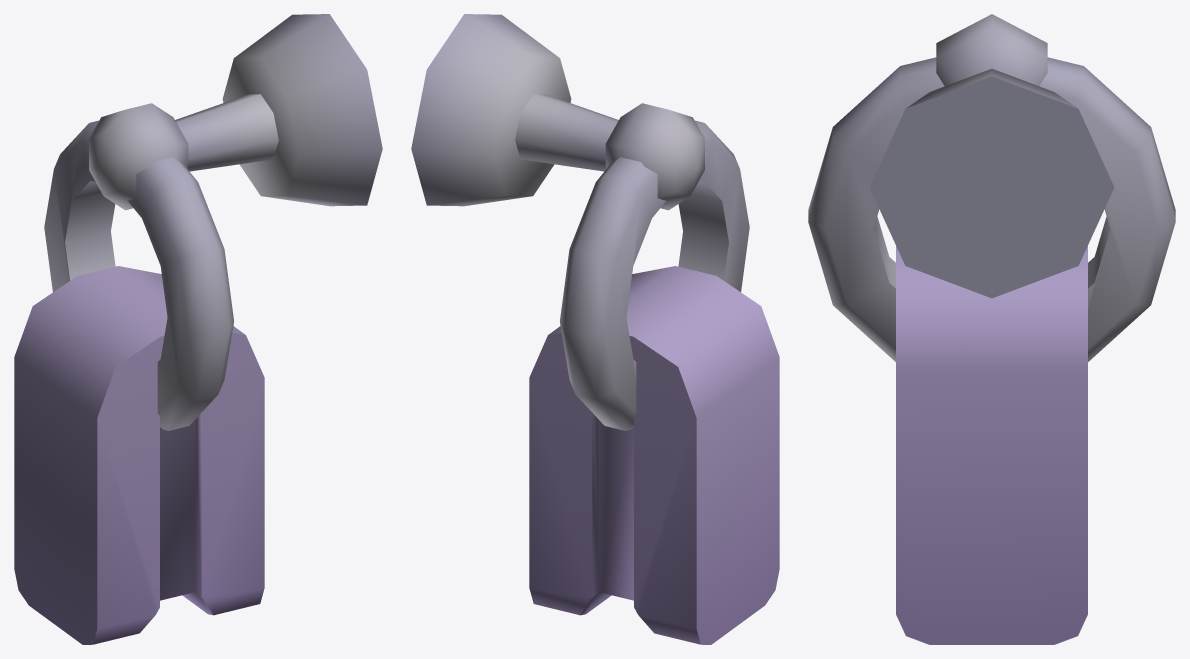
File: towel-rack-round (%wall) (%secret).glb
3 renders of one model, left to right at view 1: azimuth 30°, elevation 25°; view 2: azimuth 150°, elevation 25°; view 3: azimuth 270°, elevation 25°, orthographic. The views are drawn at different scales.
Visible parts, largest first — view 1: towel-rack-round (%wall) (%secret); view 2: towel-rack-round (%wall) (%secret); view 3: towel-rack-round (%wall) (%secret).
Boxes of the visible parts, left/top/right/bottom form: towel-rack-round (%wall) (%secret): left=14, top=14, right=382, bottom=644; towel-rack-round (%wall) (%secret): left=411, top=14, right=779, bottom=644; towel-rack-round (%wall) (%secret): left=808, top=14, right=1175, bottom=644.
Bounding box in the file's own units: 0.2173 × 0.4126 × 0.2186.
